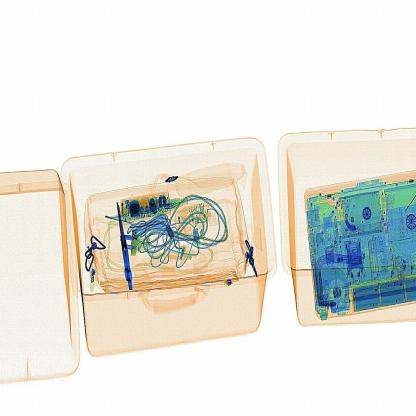gun: (108, 192, 138, 296)
